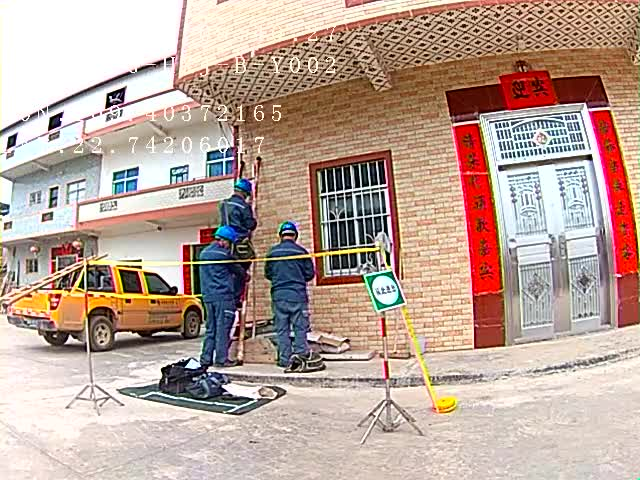halt: (216, 228, 241, 251), (281, 223, 302, 245), (236, 182, 256, 201)
